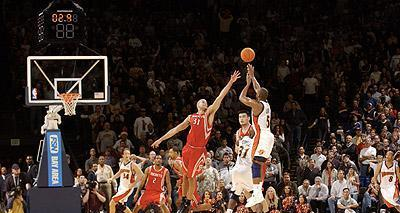ball: (241, 45, 255, 62)
